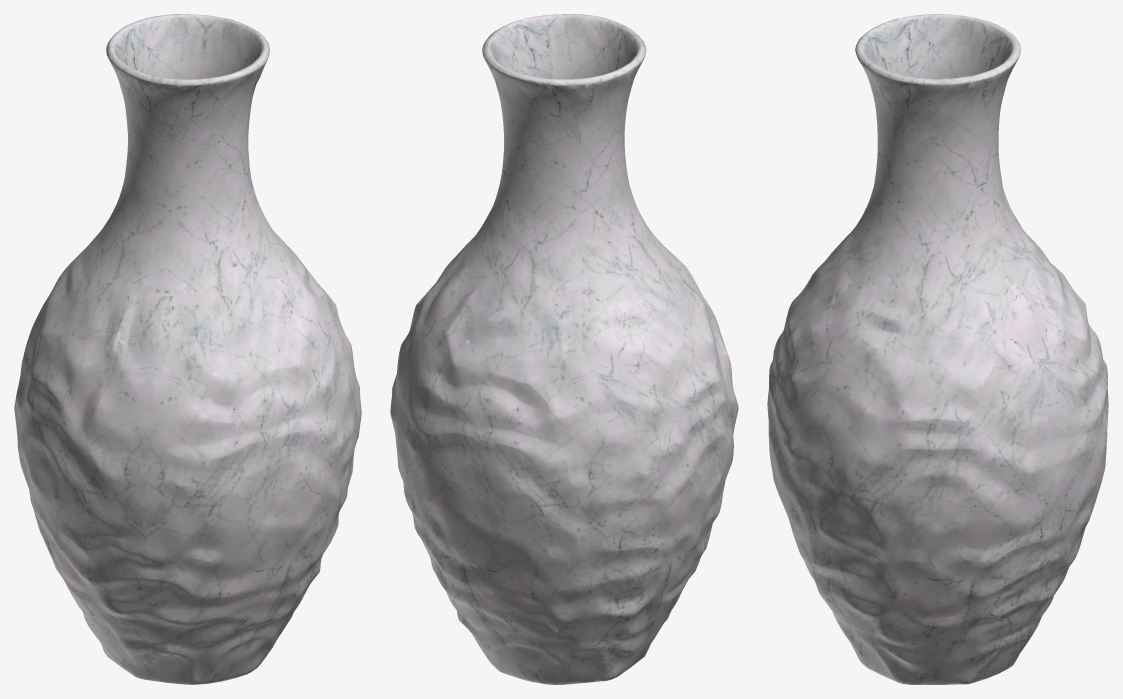
File: vaseGoldjy.glb
3 views of the same model, side by side, from view 1: azimuth 30°, elevation 25°; view 2: azimuth 150°, elevation 25°; view 3: azimuth 270°, elevation 25° (orthographic).
Visible parts, largest first — view 1: world.001; view 2: world.001; view 3: world.001.
Boxes of the visible parts, x1,y1,x2,y2 form: world.001: (14, 14, 361, 684); world.001: (390, 14, 738, 684); world.001: (767, 14, 1108, 684).
Size of the model in its own units: 0.5175 by 1 by 0.5106.
1 material, 1 textured.
